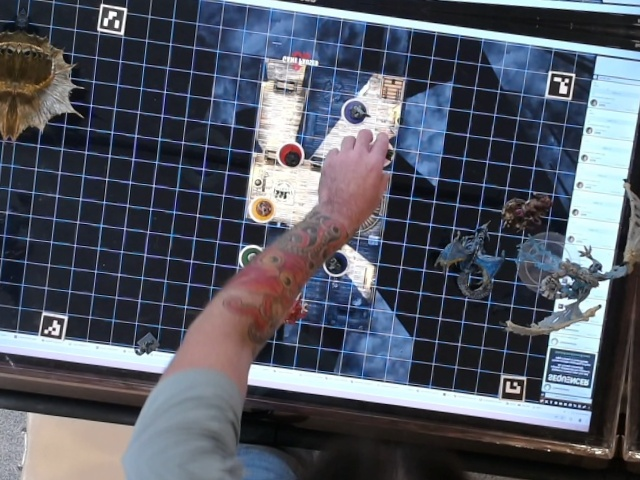blue: (318, 244, 355, 279)
green: (232, 240, 269, 273)
pink: (360, 133, 397, 170)
red: (275, 136, 307, 170)
violet: (334, 96, 372, 129)
yellow: (246, 194, 279, 226)
